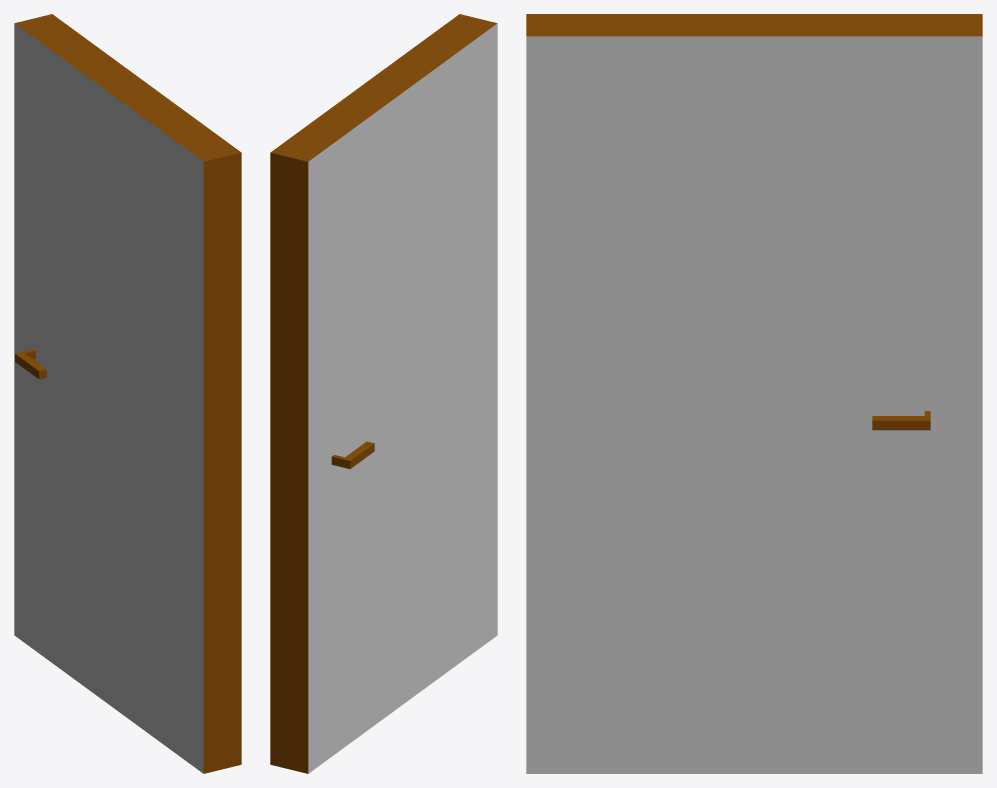
The model's file is door.glb.
The picture shows the model from 3 angles, left to right: view 1: azimuth 30°, elevation 25°; view 2: azimuth 150°, elevation 25°; view 3: azimuth 270°, elevation 25°; orthographic projection. The views are drawn at different scales.
Parts seen in each view (by area): view 1: Porte; view 2: Porte; view 3: Porte.
Boxes of the visible parts, bbox=[...] form: Porte: bbox=[14, 14, 241, 773]; Porte: bbox=[270, 14, 497, 773]; Porte: bbox=[526, 14, 982, 773].
Size of the model in its own units: 0.2355 by 1.84 by 1.03.
